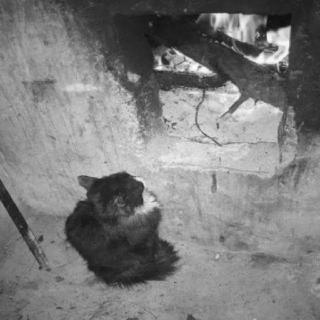Fire: (154, 9, 297, 120)
